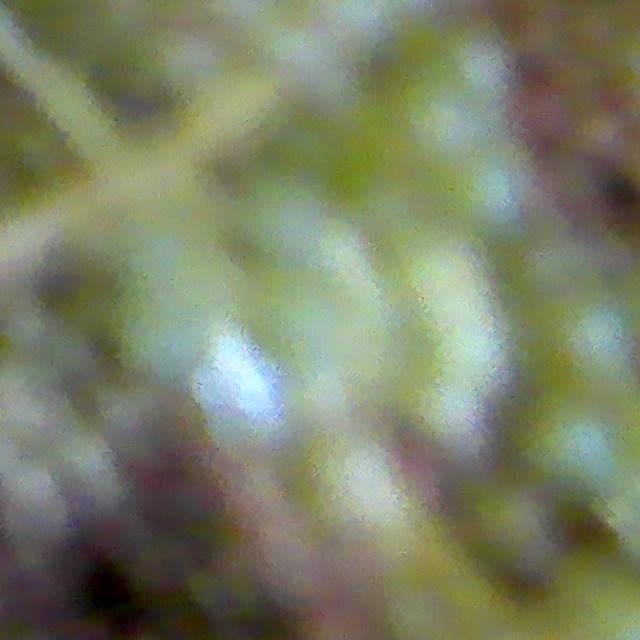SeaGrape: (514, 379, 638, 501), (540, 280, 640, 392), (461, 476, 562, 576), (447, 142, 539, 238), (401, 83, 492, 171), (264, 18, 339, 92)
